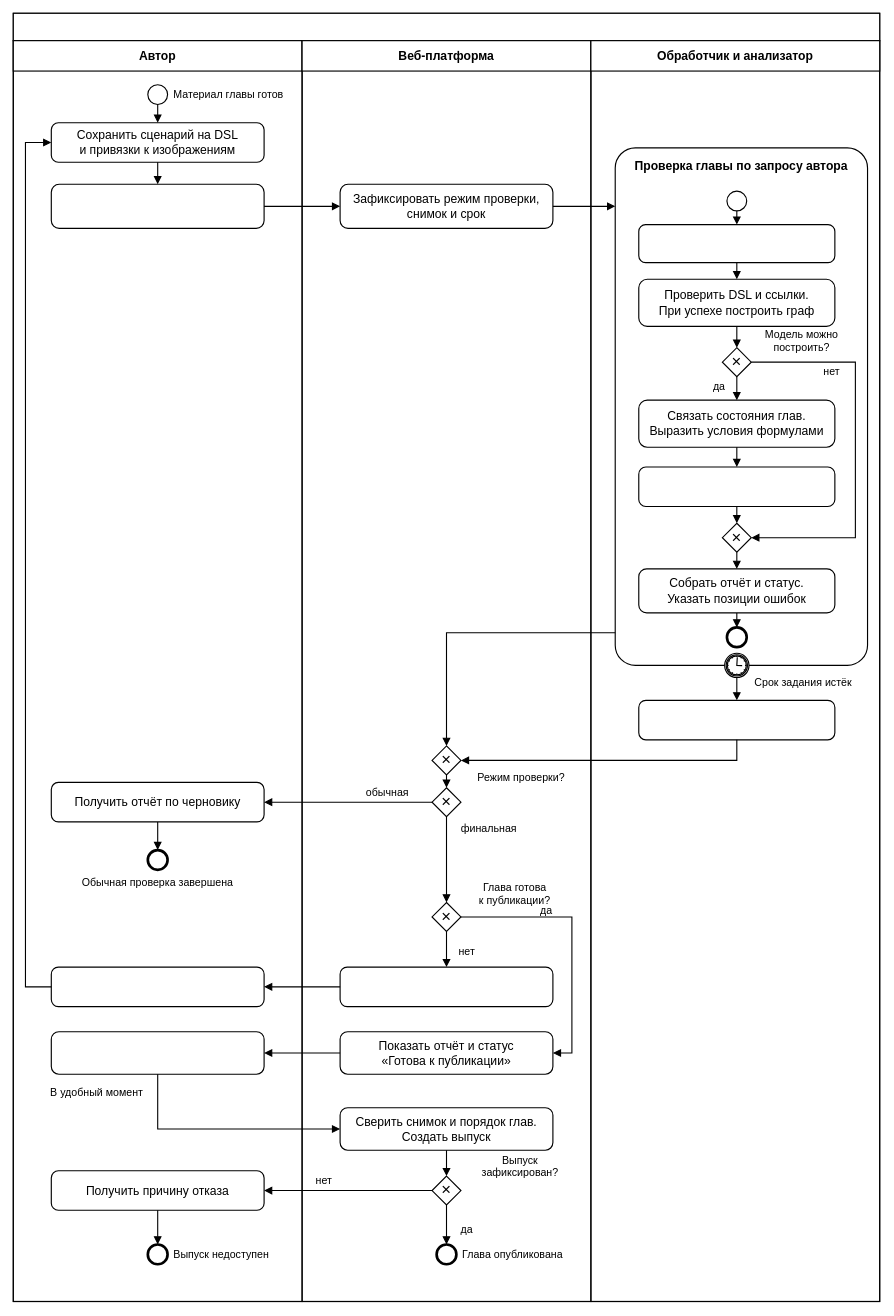
Some shapes in this 894 by 1316 pixel diagram are drawn without their labels. Here are the shapes that lost their labels. From the top down, the box of each, then its label:
(12, 12, 880, 41): TO-BE · Обычная проверка, финальная проверка и публикация
(50, 183, 264, 229): Выбрать «Проверить» или «Проверить перед публикацией»
(638, 224, 835, 263): Взять задание из очереди и загрузить снимки глав
(638, 466, 835, 507): Проверить достижимость сцен, вариантов и тупиков
(638, 699, 835, 740): Зафиксировать статус «проверка неполная»
(50, 966, 264, 1007): Изучить отчёт и устранить причину отказа
(339, 966, 553, 1007): Показать отчёт и причину отказа в выпуске
(50, 1031, 264, 1074): Нажать «Опубликовать»
